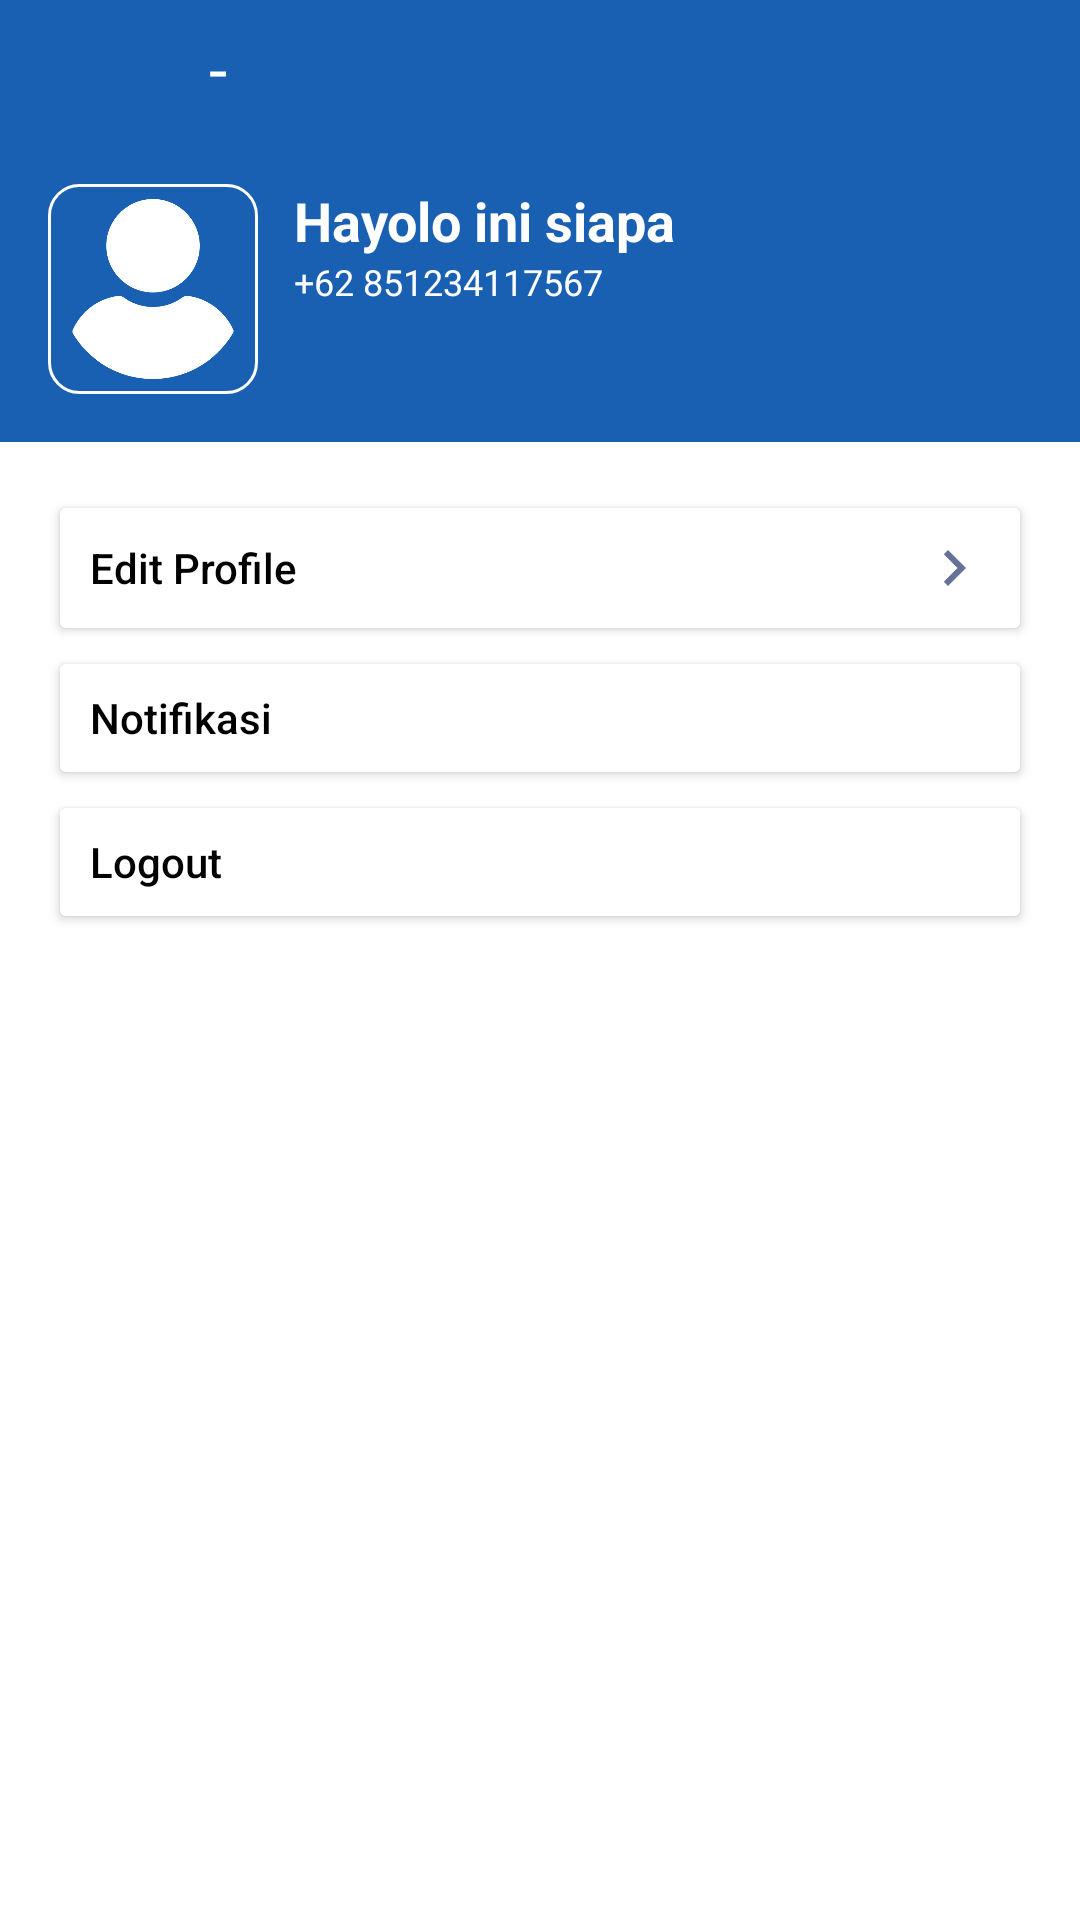

Where to tap for icons on this 1080px×1920px app screen, as point (x, y):
user: point (153, 289)
